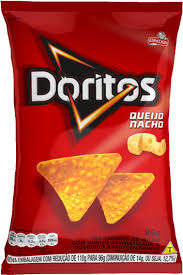Doritos: (22, 15, 162, 247)
